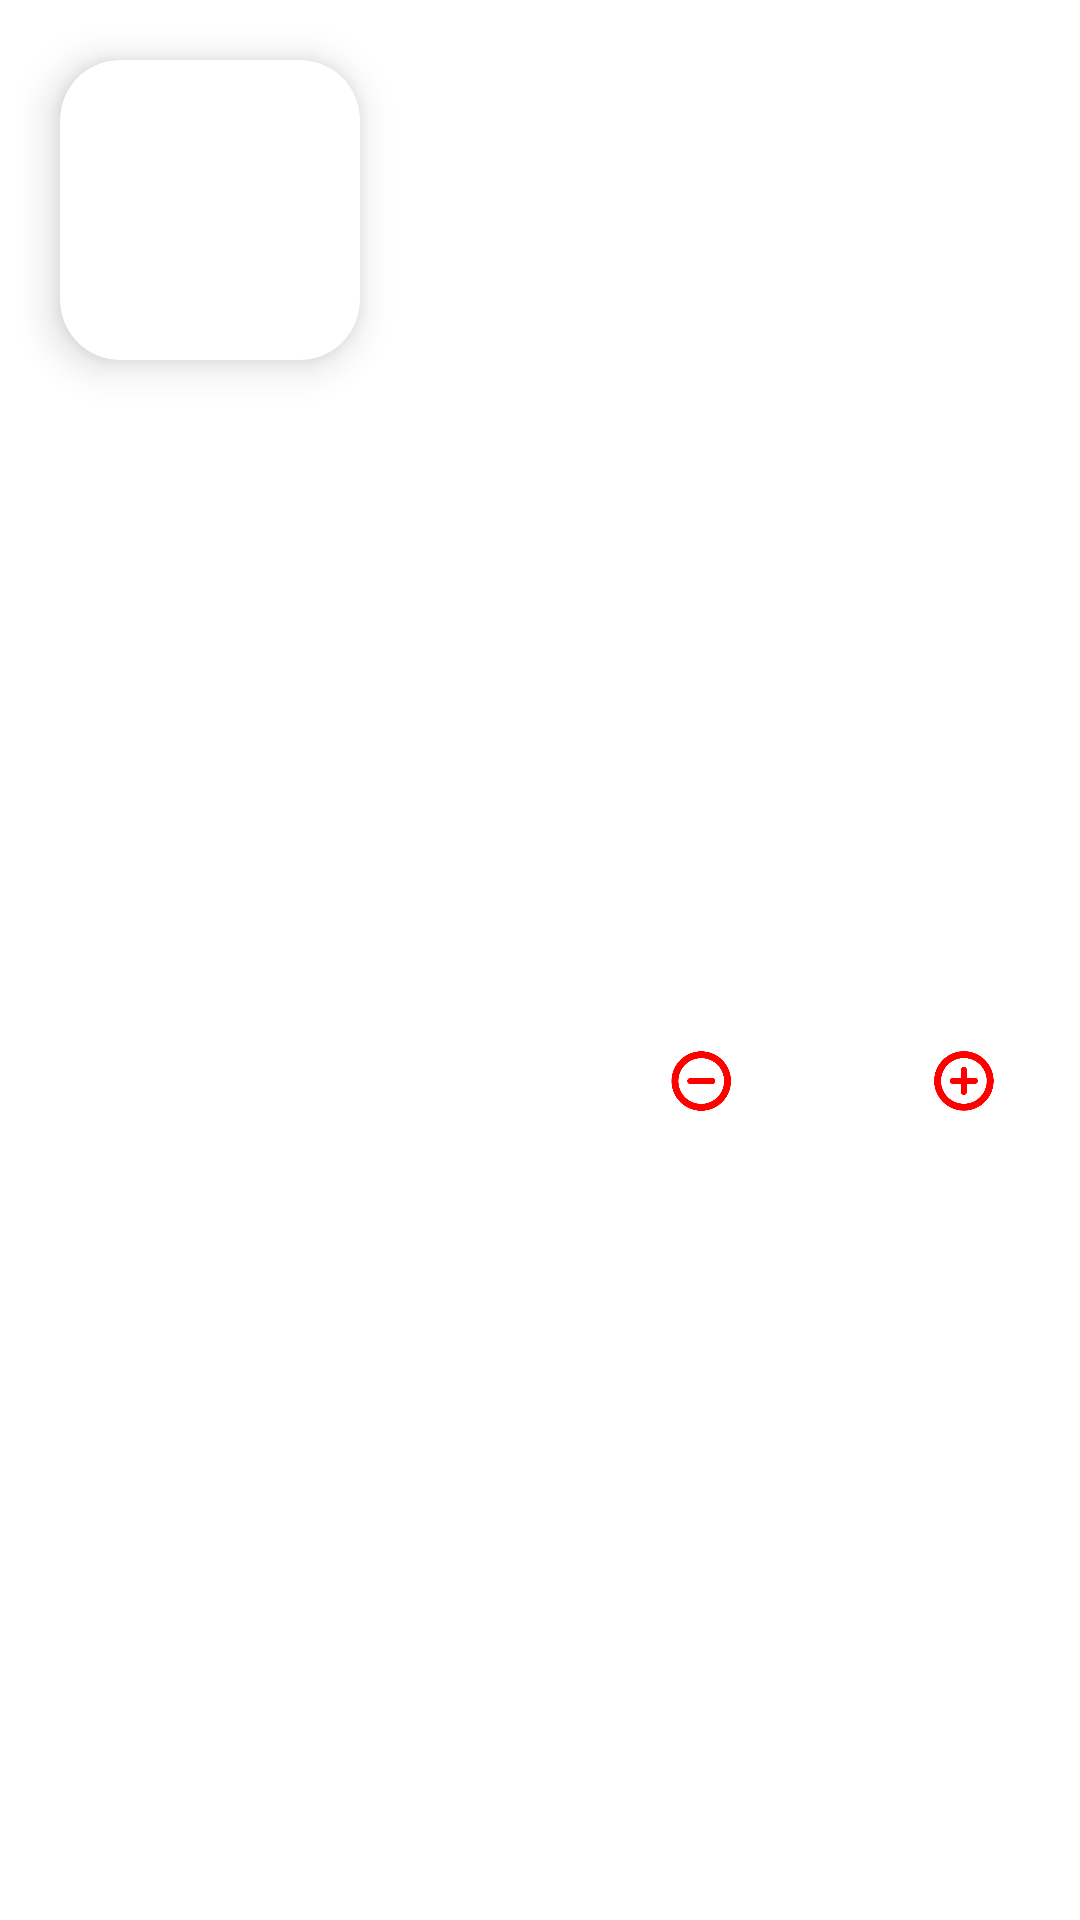

Point at icon controls on the screen. Image size 1080w x 1920h, points as [x,y].
add: [964,1081]
remove: [701,1081]
